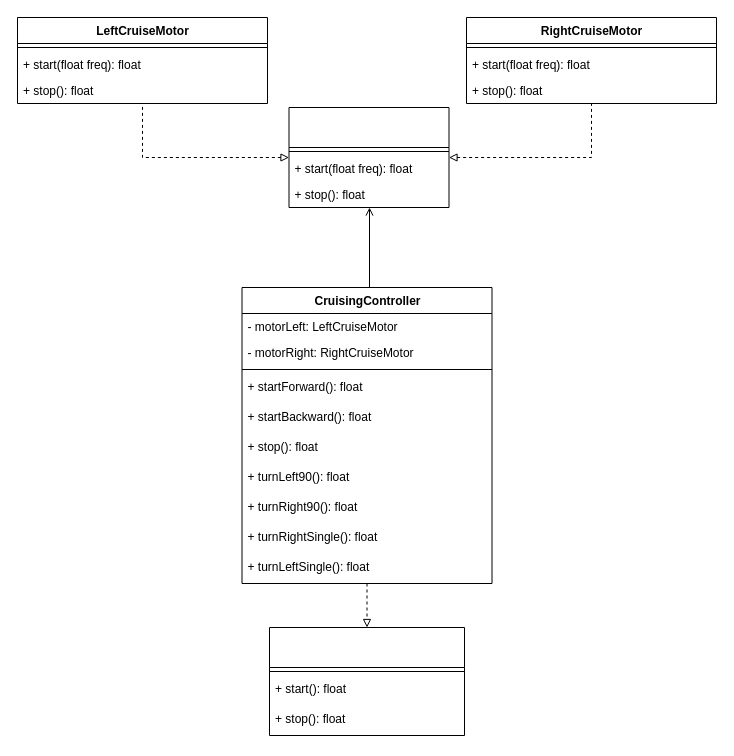
This 734x756 diagram has some shape labels left out. Here are the shapes that lost their labels. From the top down, the box of each, then its label:
(288, 106, 449, 208): <<interface>> CruiseMotor
(268, 626, 464, 736): <<interface>> Cruiser
